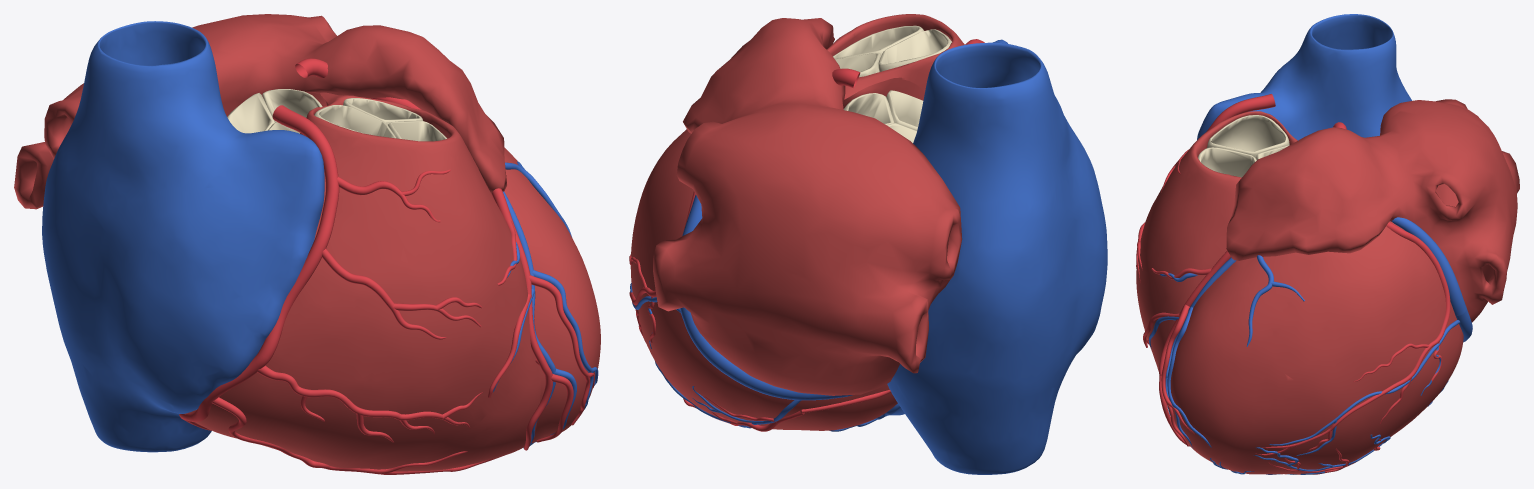
The model's file is heart.glb.
3 views of the same model, side by side, from view 1: azimuth 30°, elevation 25°; view 2: azimuth 150°, elevation 25°; view 3: azimuth 270°, elevation 25° (orthographic). The views are drawn at different scales.
Parts seen in each view (by area): view 1: right-atrium, right-ventricle, left-atrium, right-coronary-artery, left-ventricle, anterior-interventricular-artery, great-cardiac-vein, right-semilunar-leaflet-of-pulmonary-valve, non-coronary-leaflet, left-coronary-leaflet, left-semilunar-leaflet-of-pulmonary-valve, anterior-semilunar-leaflet-of-pulmonary-valve; view 2: left-atrium, right-atrium, left-ventricle, right-ventricle, coronary-sinus, right-semilunar-leaflet-of-pulmonary-valve, anterior-semilunar-leaflet-of-pulmonary-valve, right-coronary-leaflet, left-coronary-leaflet, inferior-vein-of-left-ventricle-posterior, left-semilunar-leaflet-of-pulmonary-valve, circumflex-artery-of-heart (+2 smaller); view 3: left-ventricle, left-atrium, right-atrium, right-ventricle, great-cardiac-vein, circumflex-artery-of-heart, anterior-interventricular-artery, right-semilunar-leaflet-of-pulmonary-valve, anterior-semilunar-leaflet-of-pulmonary-valve, right-coronary-artery, inferior-vein-of-left-ventricle, inferior-vein-of-left-ventricle-posterior (+1 smaller).
Part boxes in pixels (x1,y1,x2,y2): right-atrium: (42, 21, 324, 452); right-ventricle: (184, 92, 540, 471); left-atrium: (14, 14, 506, 209); right-coronary-artery: (179, 105, 501, 474); left-ventricle: (309, 93, 600, 443); anterior-interventricular-artery: (371, 97, 594, 450); great-cardiac-vein: (493, 161, 598, 445); right-semilunar-leaflet-of-pulmonary-valve: (314, 105, 396, 138); non-coronary-leaflet: (227, 93, 274, 133); left-coronary-leaflet: (262, 89, 322, 122); left-semilunar-leaflet-of-pulmonary-valve: (343, 98, 422, 124); anterior-semilunar-leaflet-of-pulmonary-valve: (388, 120, 446, 141); left-atrium: (653, 18, 962, 395); right-atrium: (887, 39, 1107, 474); left-ventricle: (630, 77, 924, 430); right-ventricle: (827, 14, 964, 99); coronary-sinus: (680, 307, 852, 400); right-semilunar-leaflet-of-pulmonary-valve: (878, 29, 951, 71); anterior-semilunar-leaflet-of-pulmonary-valve: (833, 25, 923, 58); right-coronary-leaflet: (886, 90, 923, 130); left-coronary-leaflet: (843, 93, 894, 124); inferior-vein-of-left-ventricle-posterior: (655, 361, 801, 428); left-semilunar-leaflet-of-pulmonary-valve: (835, 52, 880, 77); circumflex-artery-of-heart: (629, 191, 695, 343); left-ventricle: (1168, 221, 1463, 474); left-atrium: (1226, 99, 1519, 322); right-atrium: (1197, 14, 1412, 140); right-ventricle: (1136, 111, 1297, 371); great-cardiac-vein: (1149, 217, 1466, 448); circumflex-artery-of-heart: (1255, 222, 1450, 455); anterior-interventricular-artery: (1143, 250, 1230, 446); right-semilunar-leaflet-of-pulmonary-valve: (1207, 115, 1289, 158); anterior-semilunar-leaflet-of-pulmonary-valve: (1198, 147, 1256, 177); right-coronary-artery: (1136, 94, 1275, 344); inferior-vein-of-left-ventricle: (1256, 320, 1460, 466); inferior-vein-of-left-ventricle-posterior: (1253, 381, 1448, 474).
Bounding box in the file's own units: 0.1191 × 0.108 × 0.1129.
